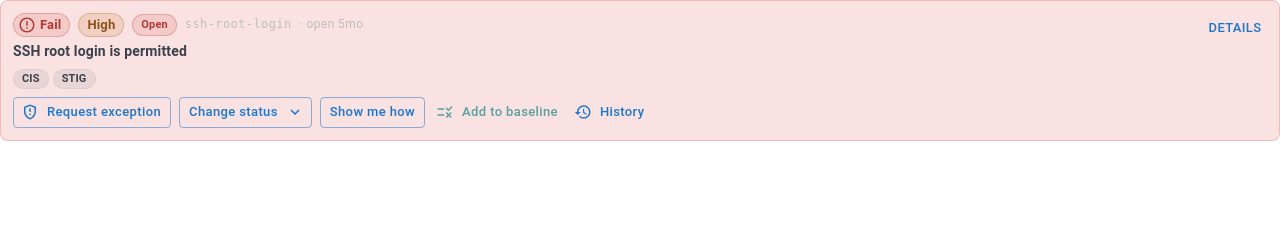
Test: FindingCard (P1-7 — exceptions are requested) › Change status no longer offers accept risk or won't fix
Click the button "Change status". click: {"x": 246, "y": 112}
box: [179, 97, 312, 128]
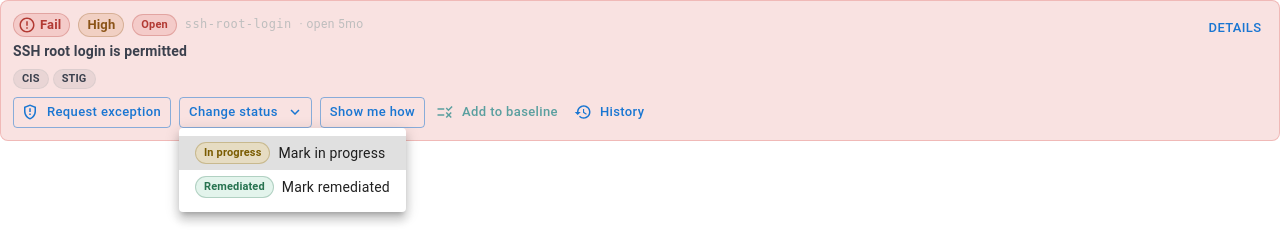
Now the text "Mark remediated" is shown, box [282, 177, 390, 197]
